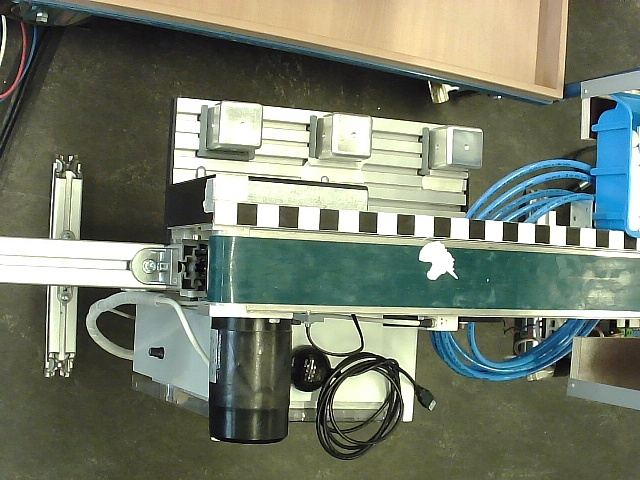unicorn: (418, 240, 458, 280)
